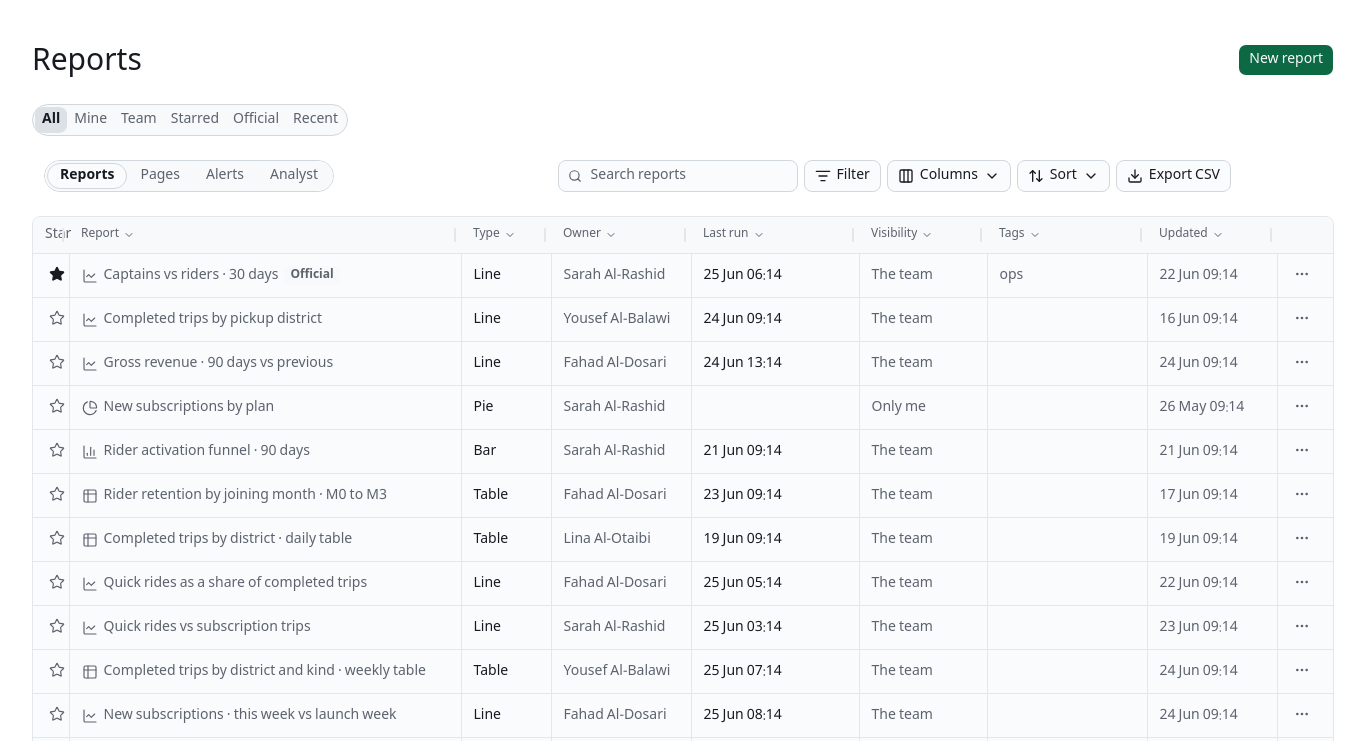
Test: Create alert, from the report library › opens the rule form with that row’s report already chosen
Expected: the row that starts with "Captains vs riders · 30 days" is shown, left=33, top=254, right=1333, bottom=298
Click the button named "More actions" at [1302, 274], box left=1290, top=262, right=1314, bottom=286
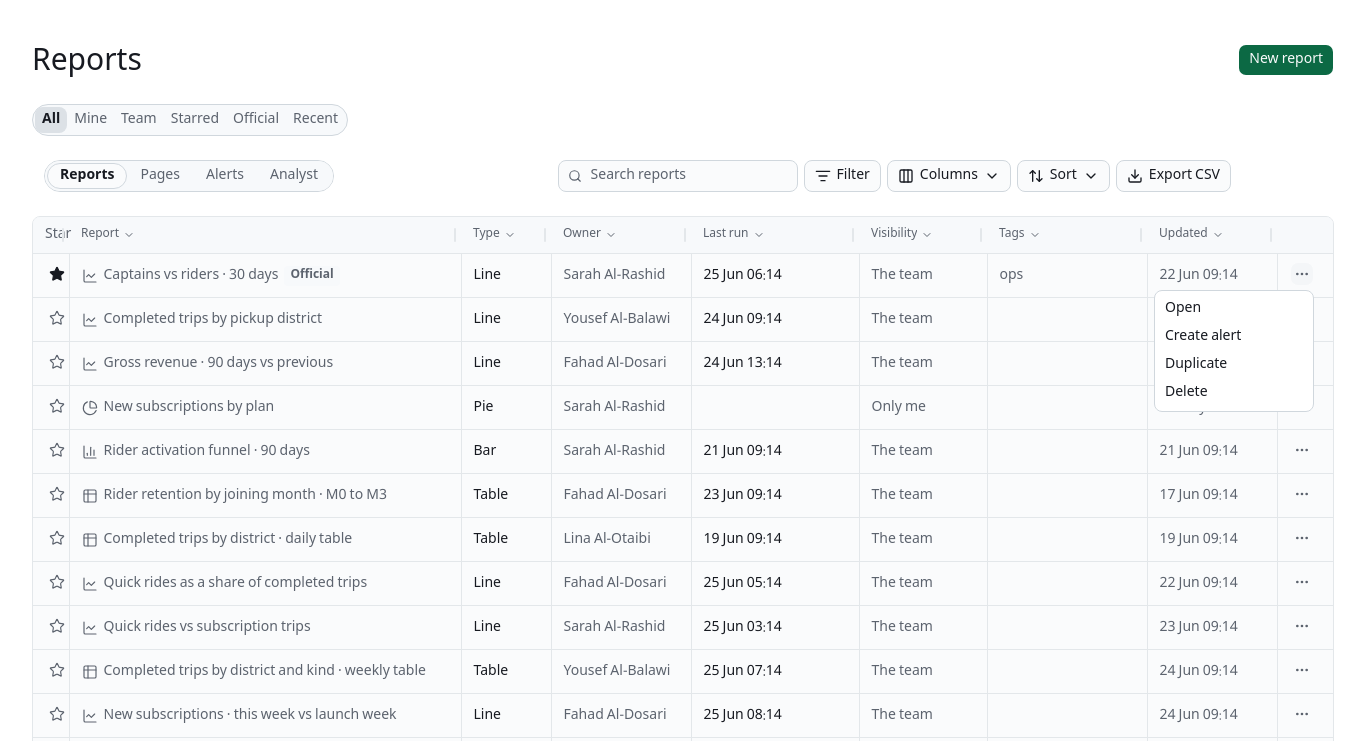
Click the menu item "Create alert" at [1203, 337], box left=1165, top=325, right=1241, bottom=349
(page scrolled)
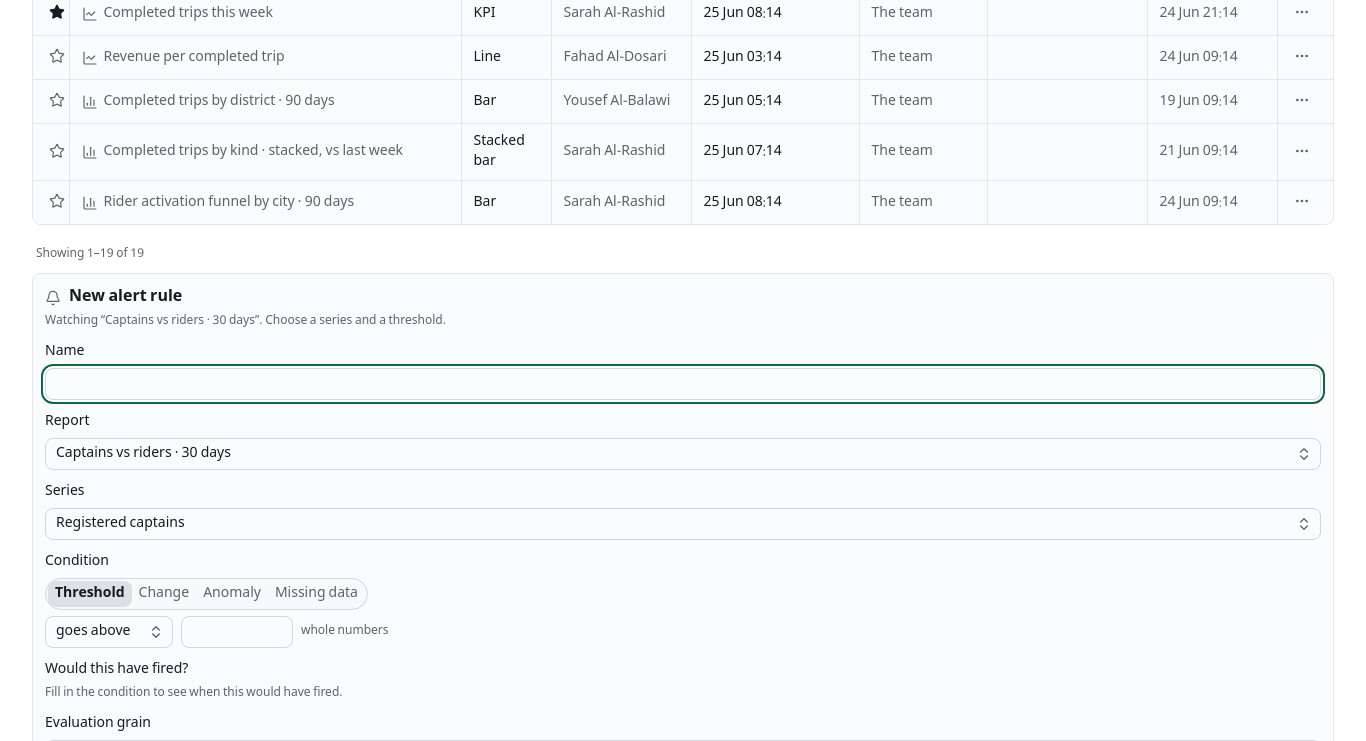
Result: the dropdown named "Report" reads "Captains vs riders · 30 days" at left=45, top=438, right=1321, bottom=470
Result: the dropdown named "Report" is enabled at left=45, top=438, right=1321, bottom=470
